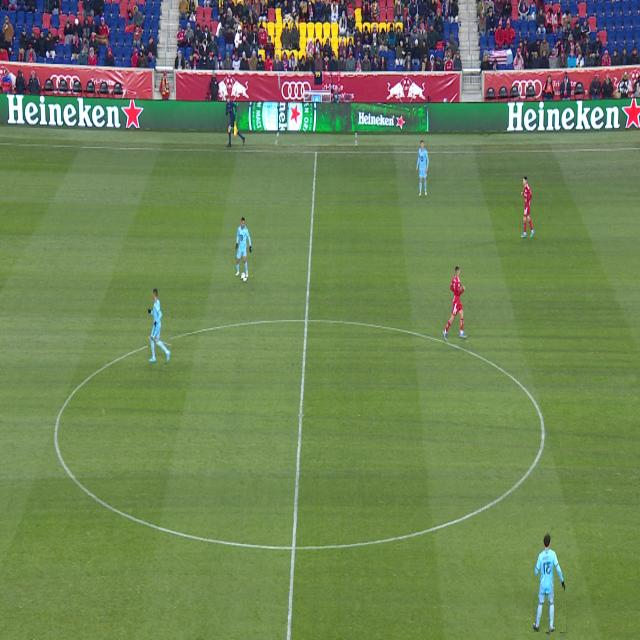football: (242, 273, 247, 282)
player: (533, 533, 566, 632), (443, 266, 468, 342), (148, 289, 171, 363), (236, 217, 252, 278), (520, 176, 535, 238), (416, 140, 429, 197)
